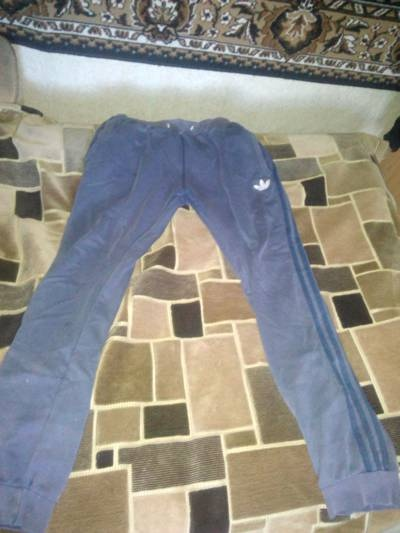Pants: (18, 79, 396, 515)
